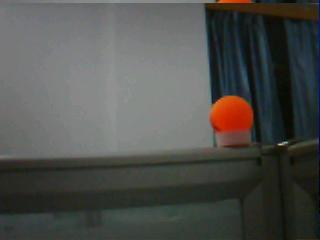oball: (209, 95, 253, 133)
